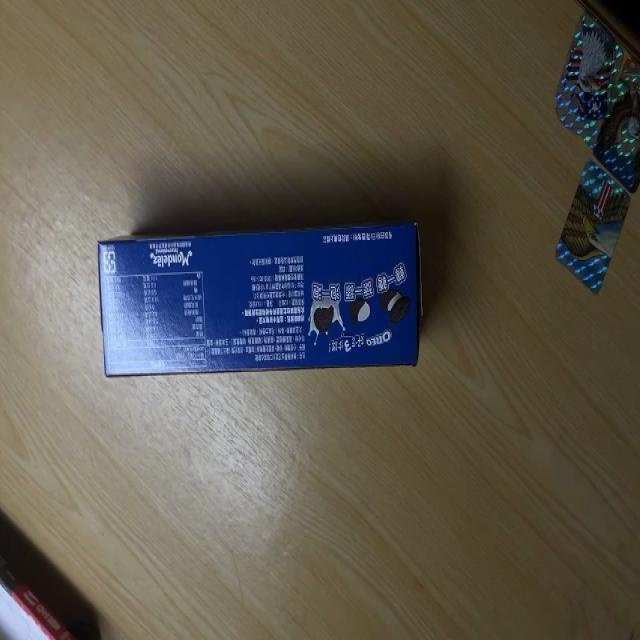Oreo: (96, 226, 424, 378)
